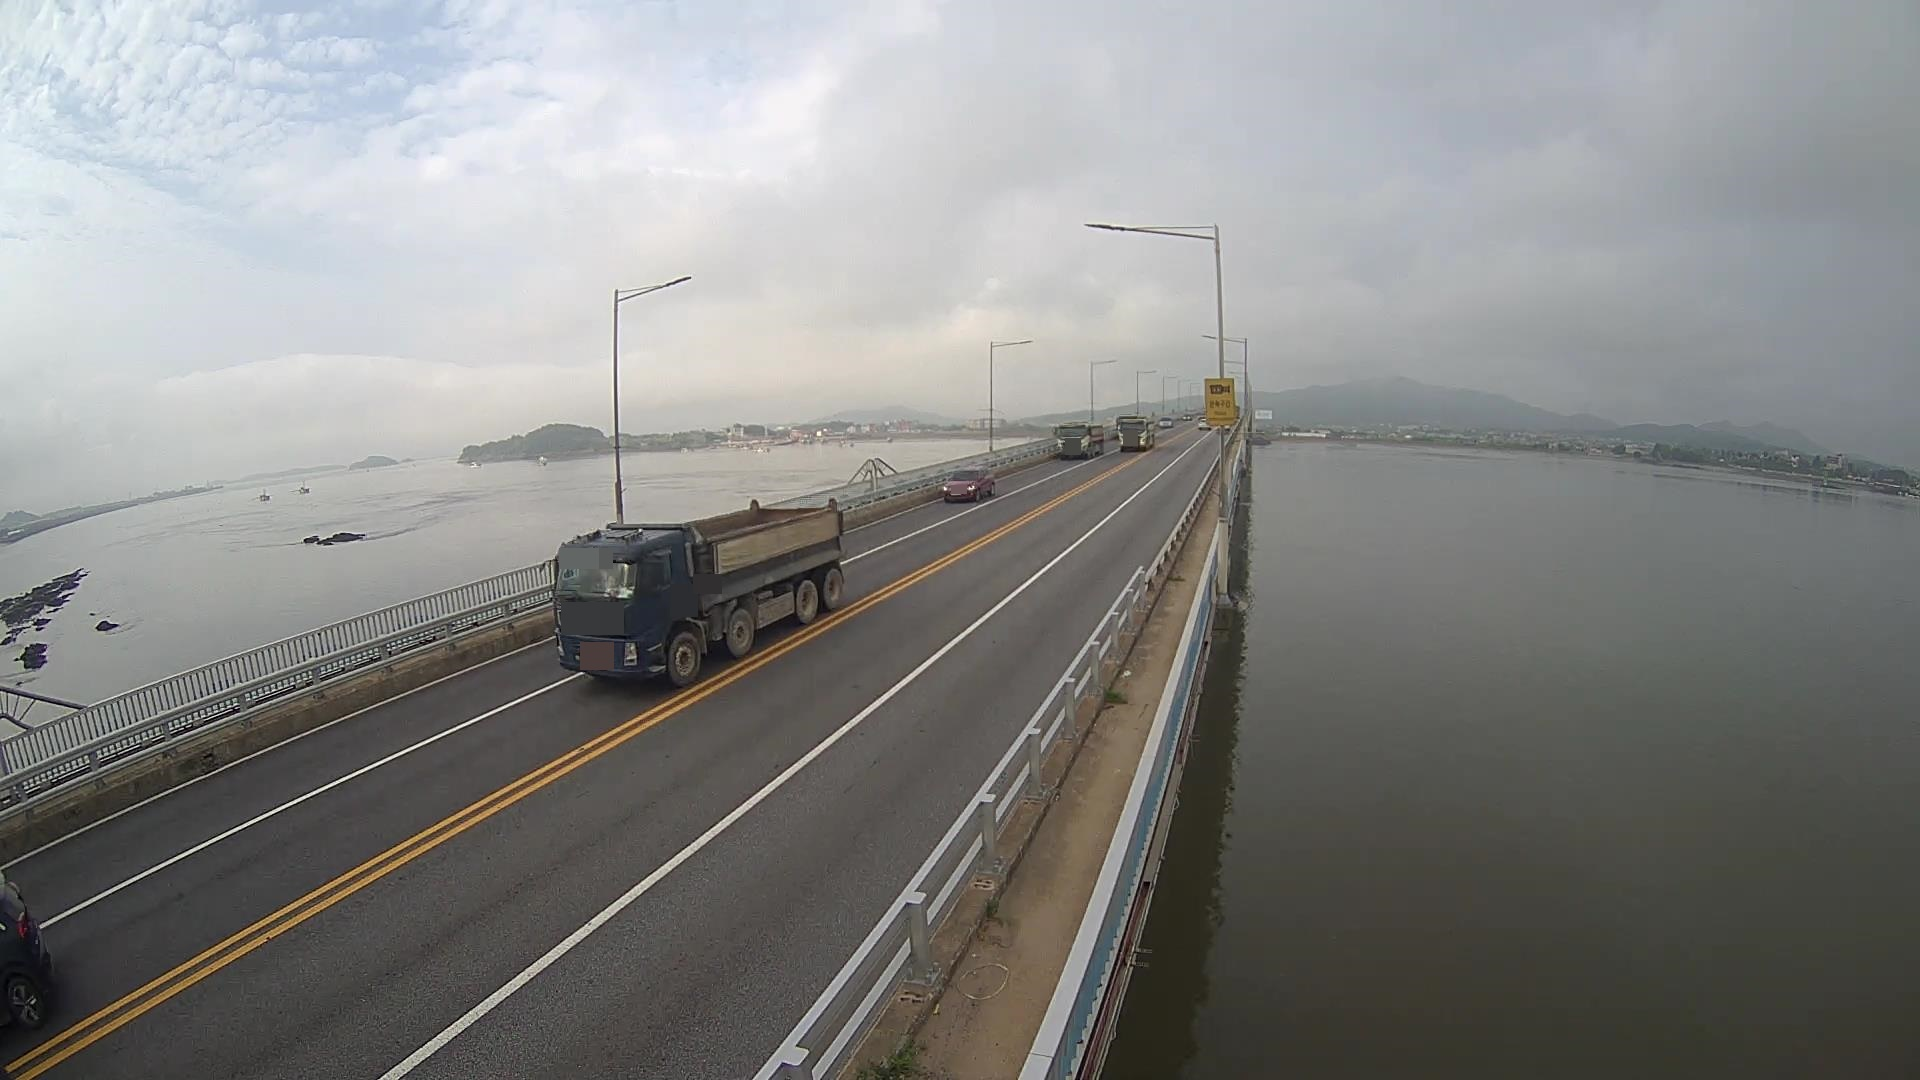정상차량: (538, 497, 847, 687)
